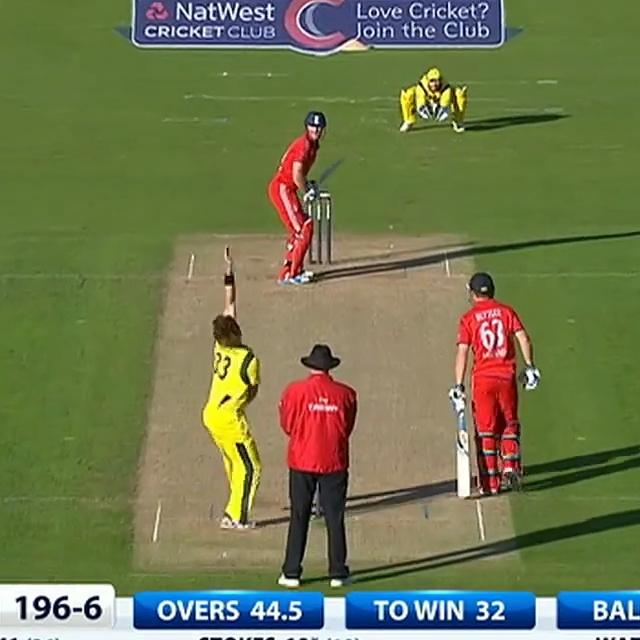umpire: (267, 336, 370, 590)
